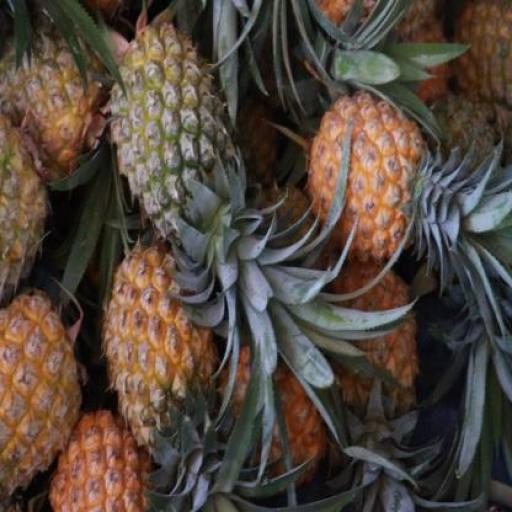------------------------------: (108, 24, 238, 247), (0, 5, 121, 164)
Pineapple - v8 v1: (100, 242, 218, 440), (309, 91, 429, 275), (0, 297, 79, 501), (48, 408, 155, 511)
